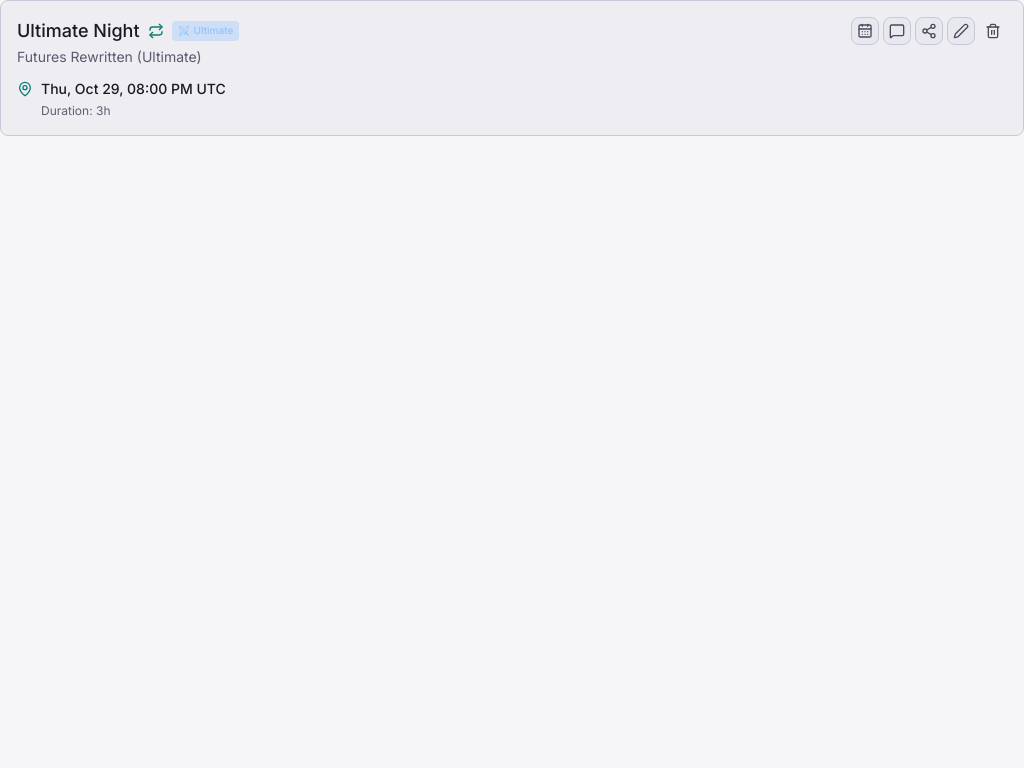
Scenario: SessionCard › recurring session behavior › clicking delete on a recurring session opens the choice modal
// Click the delete / trash button
Click the button named "Delete session": (993, 31) [979,17,1007,45]
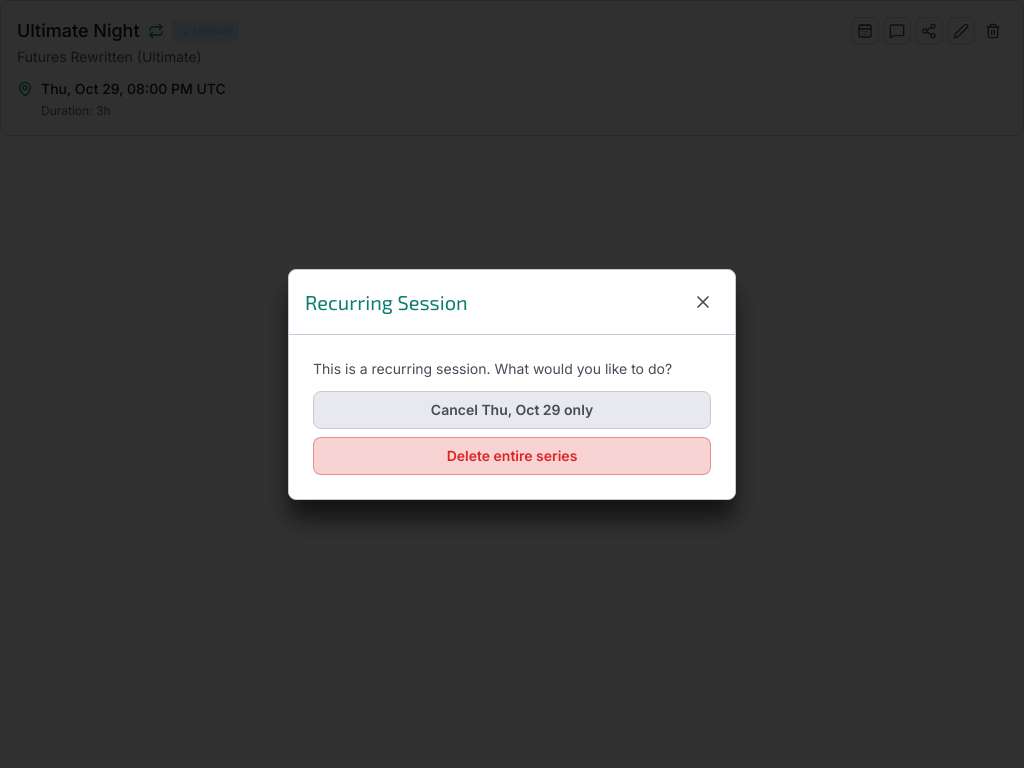
Expected: the heading "Recurring Session" is shown, [305,288,468,316]
Expected: the button "Delete entire series" is shown, [313,436,711,474]
Expected: the button "Cancel Thu, Oct 29 only" is shown, [313,390,711,428]
